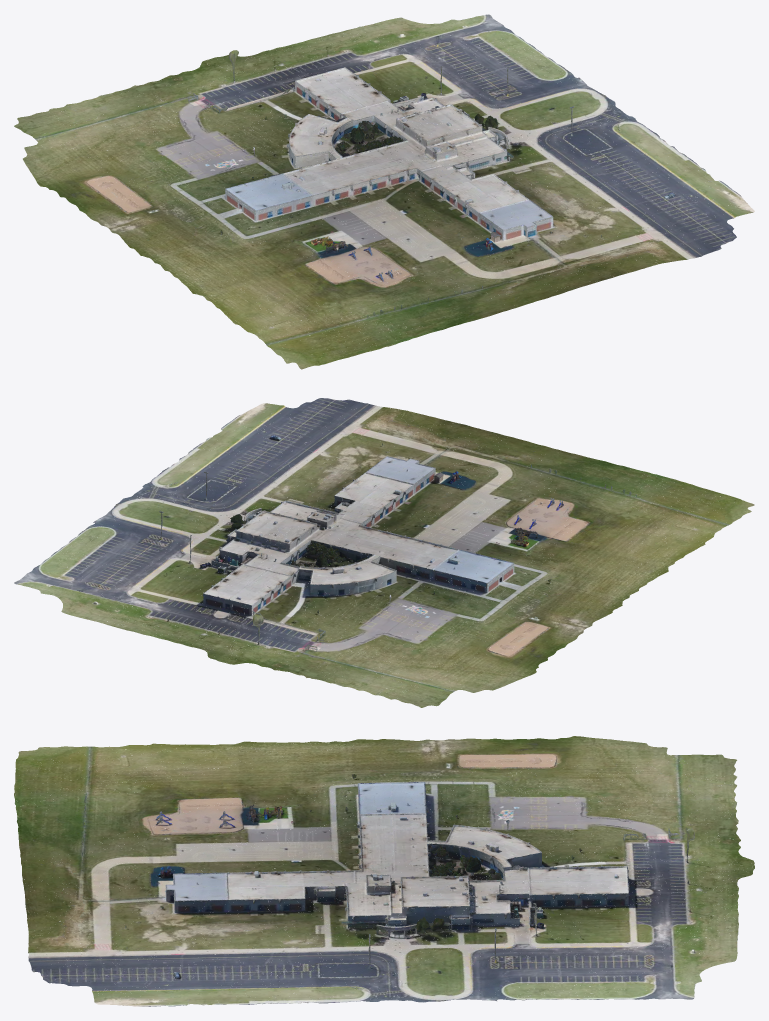
File: jackson-elementary-arena.glb
3 renders of one model, top to bottom at view 1: azimuth 30°, elevation 25°; view 2: azimuth 150°, elevation 25°; view 3: azimuth 270°, elevation 25°, orthographic. The views are drawn at different scales.
Parts seen in each view (by area): view 1: mesh_out_node; view 2: mesh_out_node; view 3: mesh_out_node.
Boxes of the visible parts, x1,y1,x2,y2 form: mesh_out_node: (14,14,754,369); mesh_out_node: (14,398,754,707); mesh_out_node: (14,736,754,1006).
Size of the model in its own units: 233 by 20.2 by 261.
Materials: 1 (1 with a texture image).
